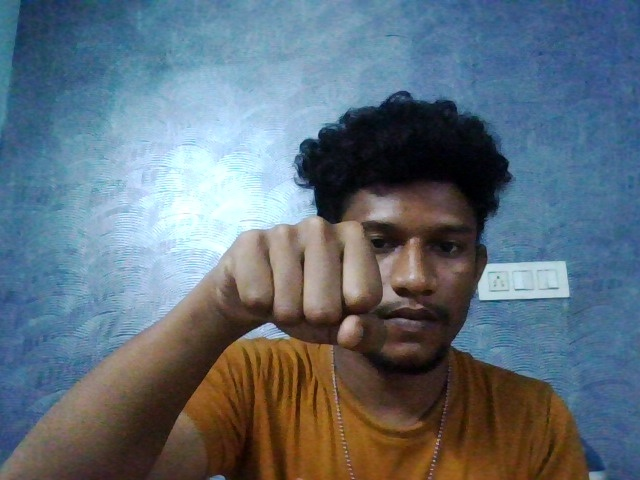yes: (199, 216, 397, 380)
